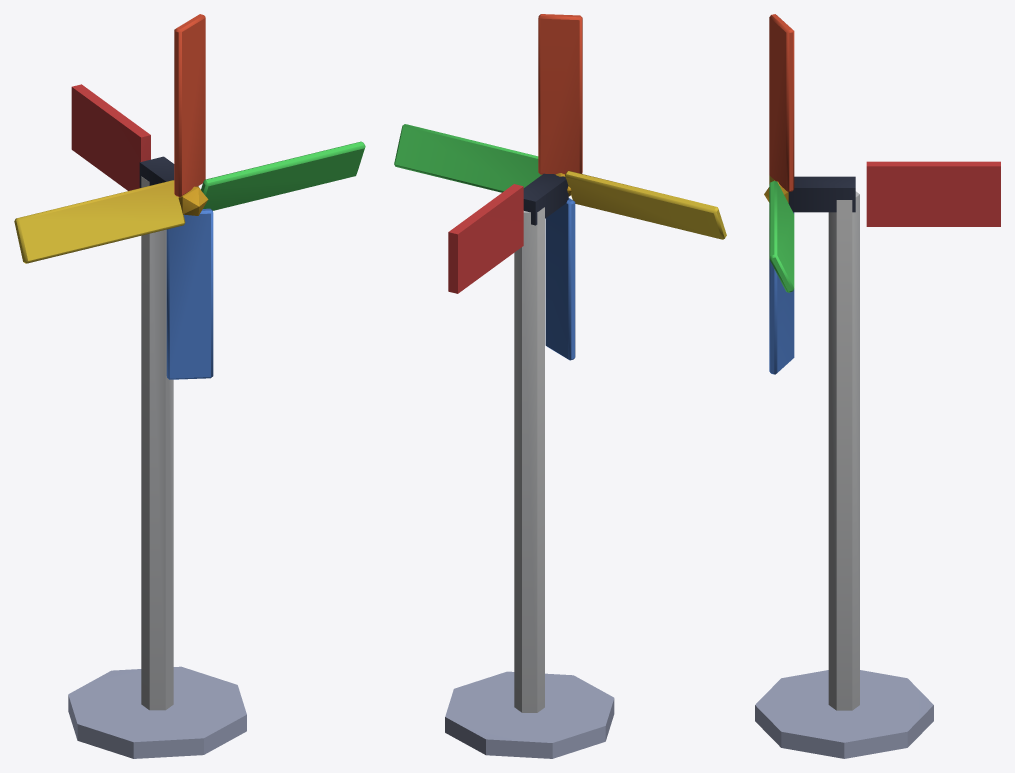
The model's file is b_windrad.glb.
3 renders of one model, left to right at view 1: azimuth 30°, elevation 25°; view 2: azimuth 150°, elevation 25°; view 3: azimuth 270°, elevation 25°, orthographic. The views are drawn at different scales.
Visible parts, largest first — view 1: body, spin_wheel; view 2: body, spin_wheel; view 3: body, spin_wheel.
Boxes of the visible parts, x1=… form: body: x1=68, y1=84, x2=246, y2=758; spin_wheel: x1=14, y1=14, x2=365, y2=379; body: x1=445, y1=173, x2=614, y2=758; spin_wheel: x1=394, y1=14, x2=726, y2=360; body: x1=755, y1=161, x2=1000, y2=758; spin_wheel: x1=764, y1=14, x2=794, y2=374.
Size of the model in its own units: 1.7 by 3.45 by 1.1.
